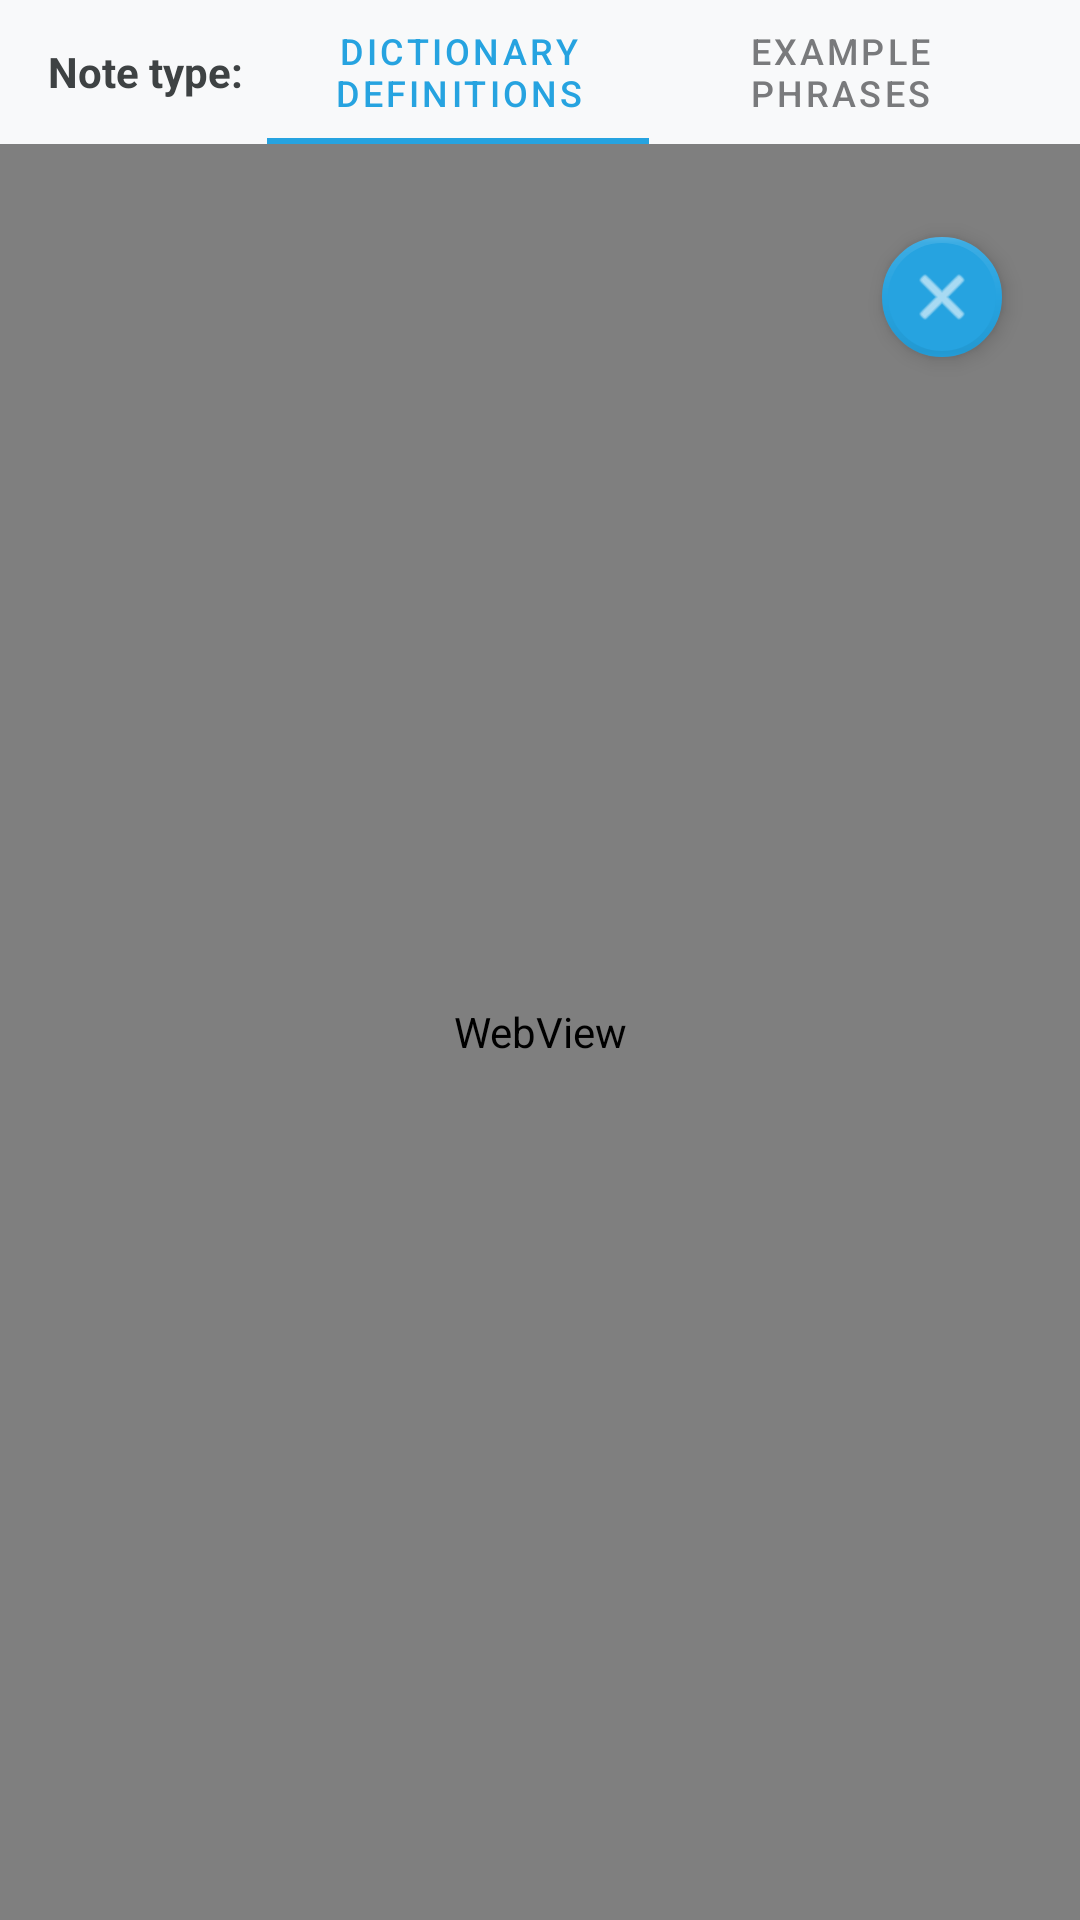

Where icons sit on this 1080 × 1920 app screen, as (x1, y1, x2, y2):
close clear cancel: (882, 237, 1002, 357)
